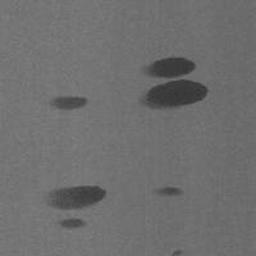Oil spot: (136, 55, 211, 113), (41, 183, 108, 211), (49, 95, 90, 111), (150, 186, 187, 198), (55, 216, 86, 230), (170, 248, 186, 256)
